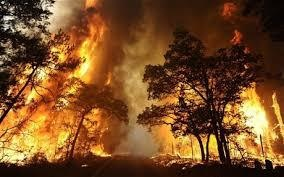fire: (2, 2, 114, 164), (153, 70, 283, 166), (221, 1, 238, 17)
